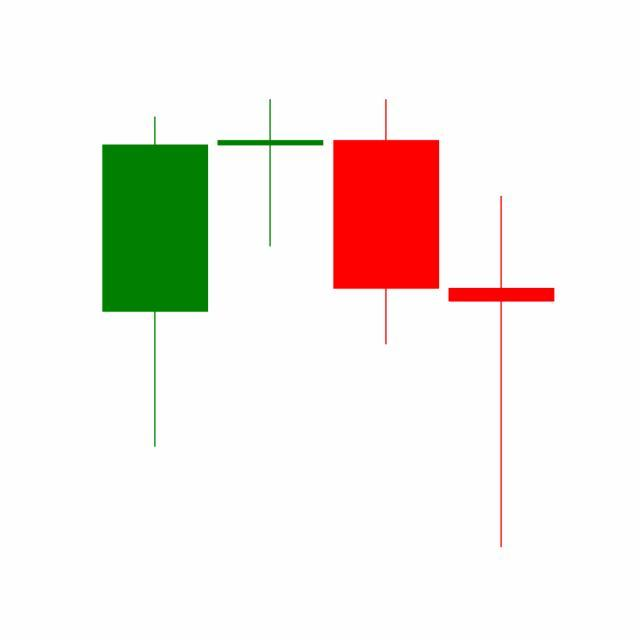Spinning Top: (444, 193, 560, 552)
